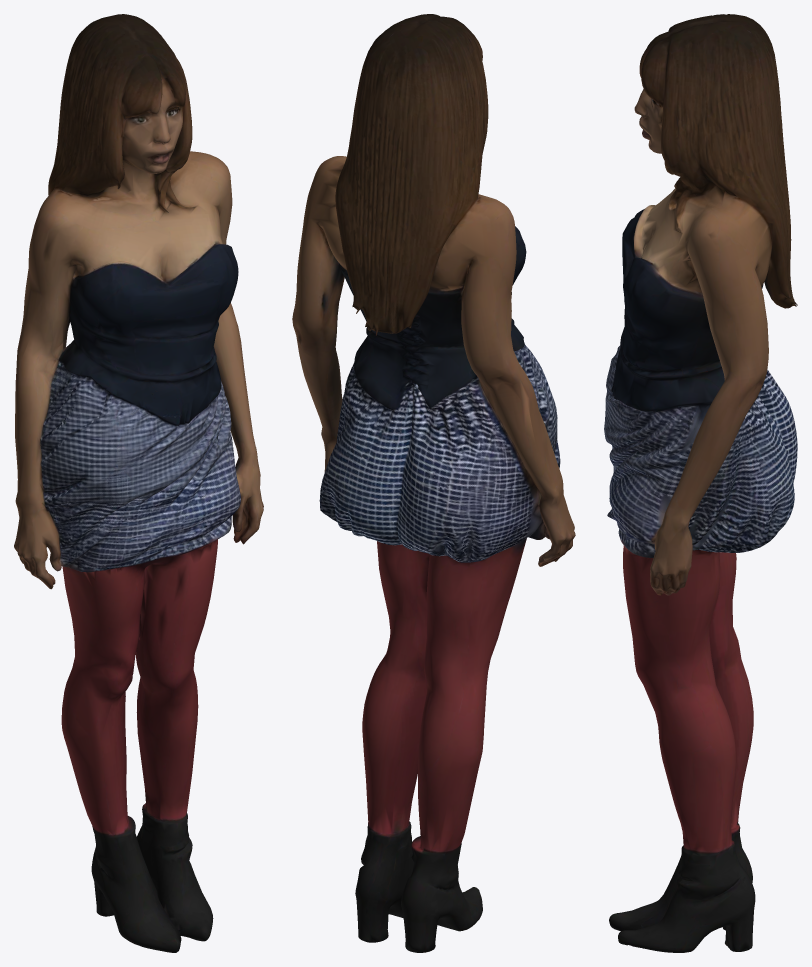
3 views of the same model, side by side, from view 1: azimuth 30°, elevation 25°; view 2: azimuth 150°, elevation 25°; view 3: azimuth 270°, elevation 25° (orthographic). The views are drawn at different scales.
Visible parts, largest first — view 1: node_0; view 2: node_0; view 3: node_0.
Boxes of the visible parts, bbox=[...] form: node_0: bbox=[14, 14, 263, 952]; node_0: bbox=[292, 14, 575, 952]; node_0: bbox=[604, 14, 797, 952].
Bounding box in the file's own units: 0.3346 × 1.18 × 0.2286.
1 material, 1 textured.
